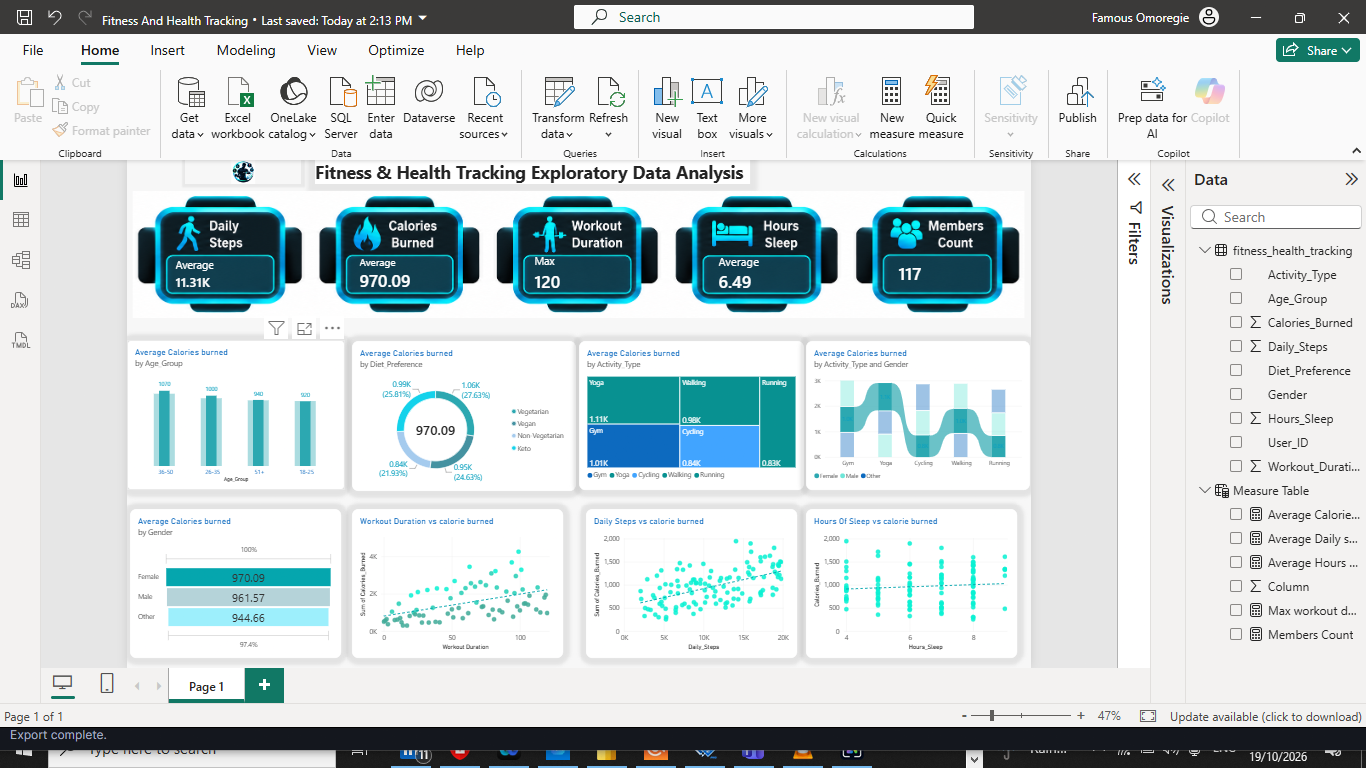

Layout of this report page (visuals, bound fields, positions):
{"tool":"powerbi","page":{"name":"Page 1","canvas":[1920,1080],"ordinal":0},"visuals":[{"type":"textbox","box":[399.7,0,924.8,51],"z":0},{"type":"image","box":[123.3,0,246.6,51],"z":1000},{"type":"image","box":[0,65.9,1919.8,270],"z":2000},{"type":"cardVisual","fields":{"Data":["Measure Table.Average Calories burned"]},"box":[478.3,202,210.5,80.8],"z":3000},{"type":"cardVisual","fields":{"Data":["Measure Table.Average Daily steps"]},"box":[87.2,202,219,80.8],"z":4000},{"type":"cardVisual","fields":{"Data":["Measure Table.Average workout duration"]},"box":[850.4,206.2,219,70.2],"z":5000},{"type":"cardVisual","fields":{"Data":["Measure Table.Average Hours Sleep"]},"box":[1241.6,204.1,202,76.5],"z":6000},{"type":"cardVisual","fields":{"Data":["Measure Table.Members Count"]},"box":[1624.3,187.1,219,108.4],"z":7000},{"type":"columnChart","fields":{"Category":["fitness_health_tracking.Age_Group"],"Y":["Measure Table.Average Calories burned"]},"box":[0,382.7,463.5,318.9],"z":8000},{"type":"donutChart","fields":{"Category":["fitness_health_tracking.Diet_Preference"],"Y":["Measure Table.Average Calories burned"]},"box":[478.3,384.8,476.2,318.9],"z":9000},{"type":"treemap","fields":{"Group":["fitness_health_tracking.Activity_Type"],"Values":["Measure Table.Average Calories burned"]},"box":[960.9,384.8,478.3,316.8],"z":10000},{"type":"ribbonChart","fields":{"Category":["fitness_health_tracking.Activity_Type"],"Series":["fitness_health_tracking.Gender"],"Y":["Measure Table.Average Calories burned"]},"box":[1443.5,384.8,476.2,316.8],"z":11000},{"type":"funnel","fields":{"Category":["fitness_health_tracking.Gender"],"Y":["Measure Table.Average Calories burned"]},"box":[6.4,742,448.6,316.8],"z":11001},{"type":"scatterChart","title":"Workout Duration vs calorie burned","fields":{"X":["fitness_health_tracking.Workout_Duration"],"Y":["Sum(fitness_health_tracking.Calories_Burned)"]},"box":[478.3,742,448.6,316.8],"z":11002},{"type":"scatterChart","title":"Daily Steps vs calorie burned","fields":{"X":["fitness_health_tracking.Daily_Steps"],"Y":["Sum(fitness_health_tracking.Calories_Burned)"]},"box":[975.8,742,448.6,316.8],"z":11003},{"type":"scatterChart","title":"Hours Of Sleep vs calorie burned","fields":{"X":["fitness_health_tracking.Hours_Sleep"],"Y":["fitness_health_tracking.Calories_Burned"]},"box":[1443.5,742,448.6,316.8],"z":11004}]}

Visuals, with their boxes on the page's 1920x1080 design canvas (x1, y1, x2, y2). These are canvas units, not pixel positions in the 1366x768 screenshot, which may show the page scaled, cropped or inside an application window:
textbox: (400,0,1324,51)
image: (123,0,370,51)
image: (0,66,1920,336)
cardVisual - Measure Table.Average Calories burned: (478,202,689,283)
cardVisual - Measure Table.Average Daily steps: (87,202,306,283)
cardVisual - Measure Table.Average workout duration: (850,206,1069,276)
cardVisual - Measure Table.Average Hours Sleep: (1242,204,1444,281)
cardVisual - Measure Table.Members Count: (1624,187,1843,296)
columnChart - fitness_health_tracking.Age_Group x Measure Table.Average Calories burned: (0,383,464,702)
donutChart - fitness_health_tracking.Diet_Preference x Measure Table.Average Calories burned: (478,385,954,704)
treemap - fitness_health_tracking.Activity_Type x Measure Table.Average Calories burned: (961,385,1439,702)
ribbonChart - fitness_health_tracking.Activity_Type x fitness_health_tracking.Gender: (1444,385,1920,702)
funnel - fitness_health_tracking.Gender x Measure Table.Average Calories burned: (6,742,455,1059)
"Workout Duration vs calorie burned" scatterChart: (478,742,927,1059)
"Daily Steps vs calorie burned" scatterChart: (976,742,1424,1059)
"Hours Of Sleep vs calorie burned" scatterChart: (1444,742,1892,1059)
